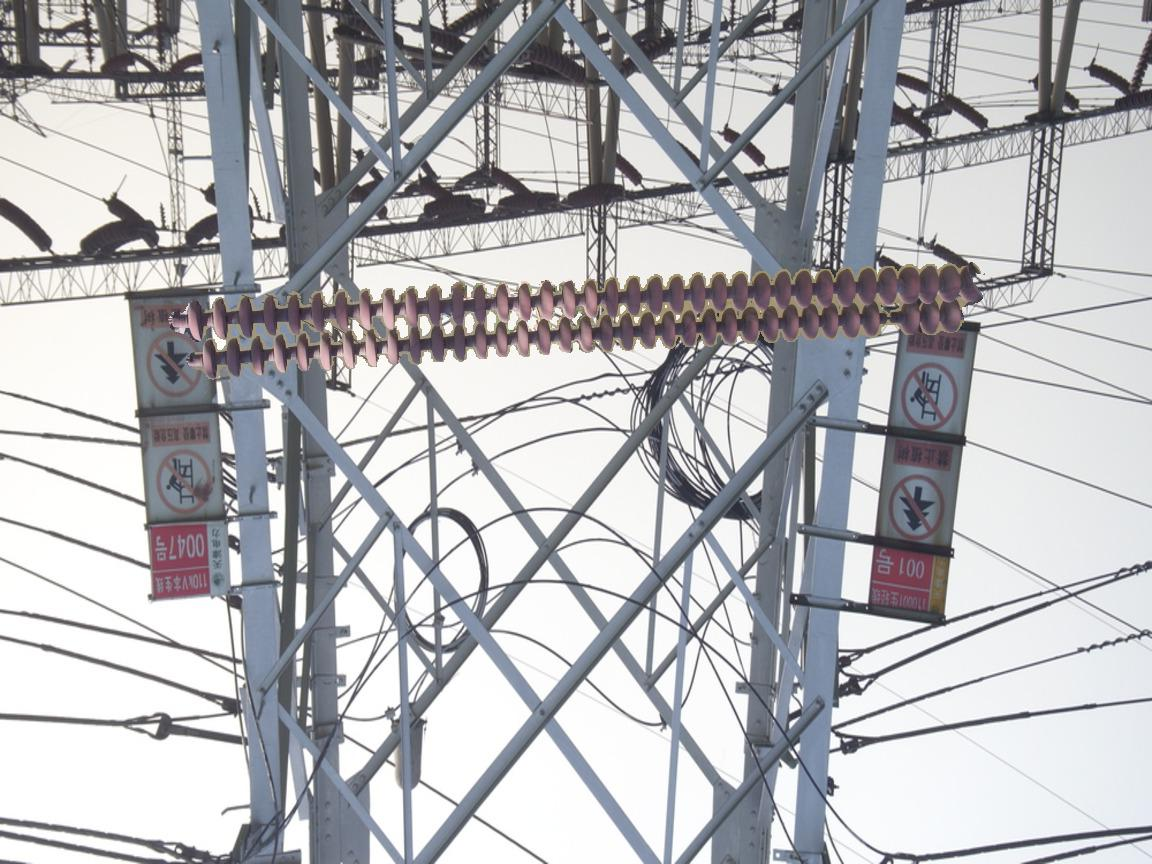insulator: (172, 253, 980, 383)
insulator_stringdrop: (860, 299, 924, 340)
